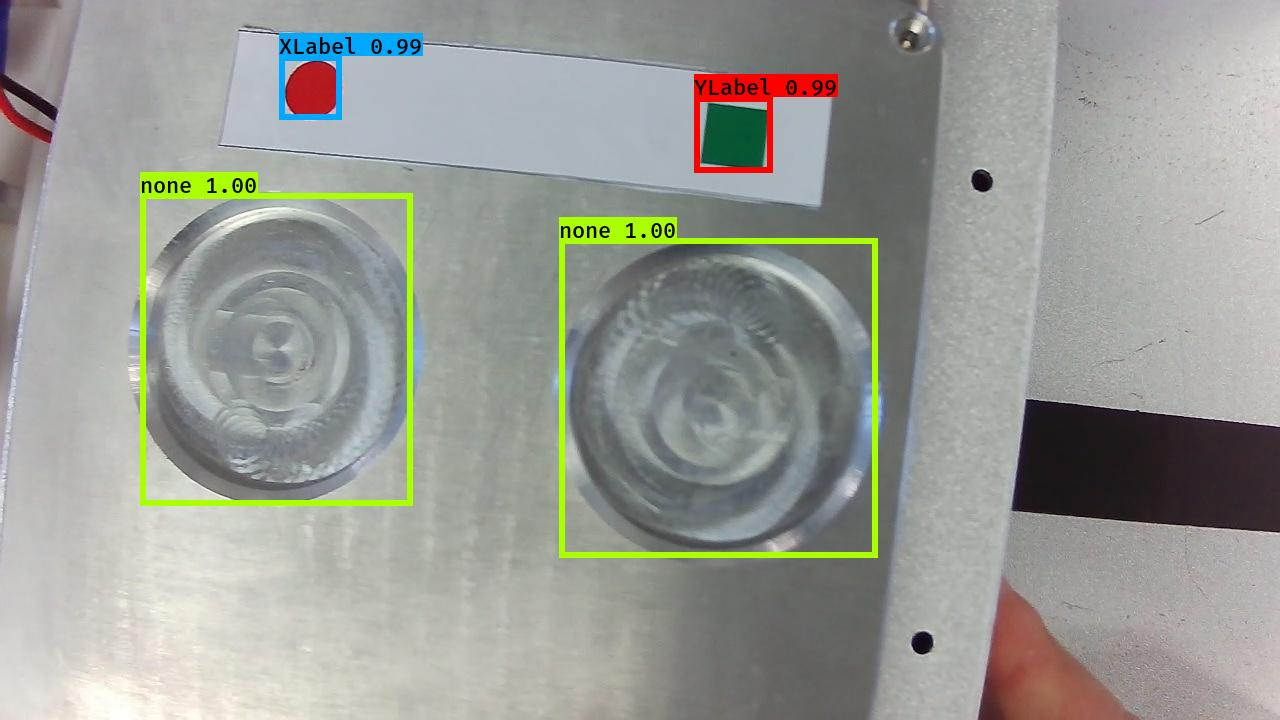XLabel: (277, 55, 349, 124)
YLabel: (695, 99, 772, 175)
none: (545, 233, 886, 571), (119, 187, 429, 510)
